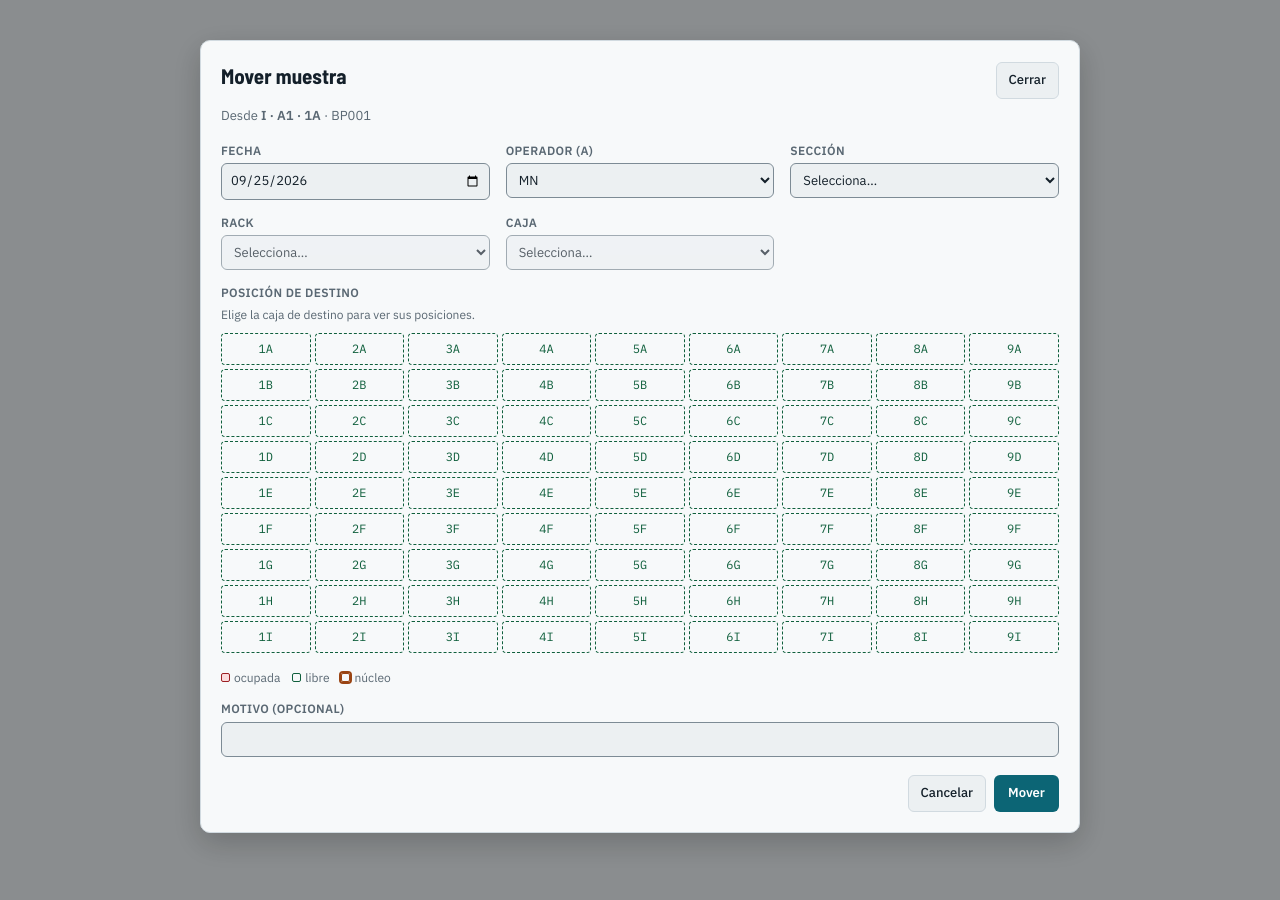
Test case: MoveModal › el destino se elige de listas con las cajas que tienen espacio
The width and height of the screenshot is (1280, 900).
Select "I" in the dropdown labelled "Sección" at [925, 181], box 790,163 -> 1059,198
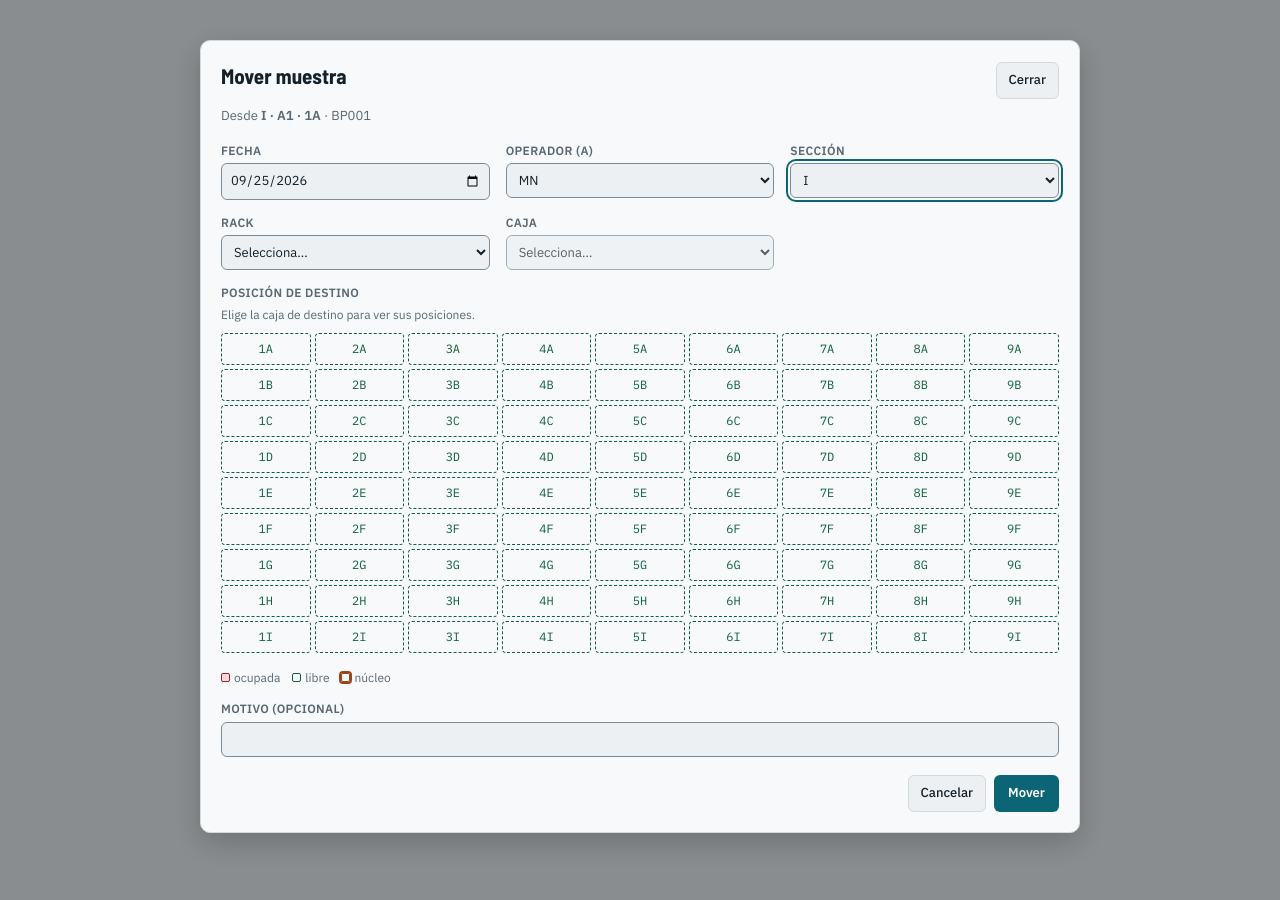
Select "A" in the dropdown labelled "Rack" at [355, 253], box 221,235 -> 490,270
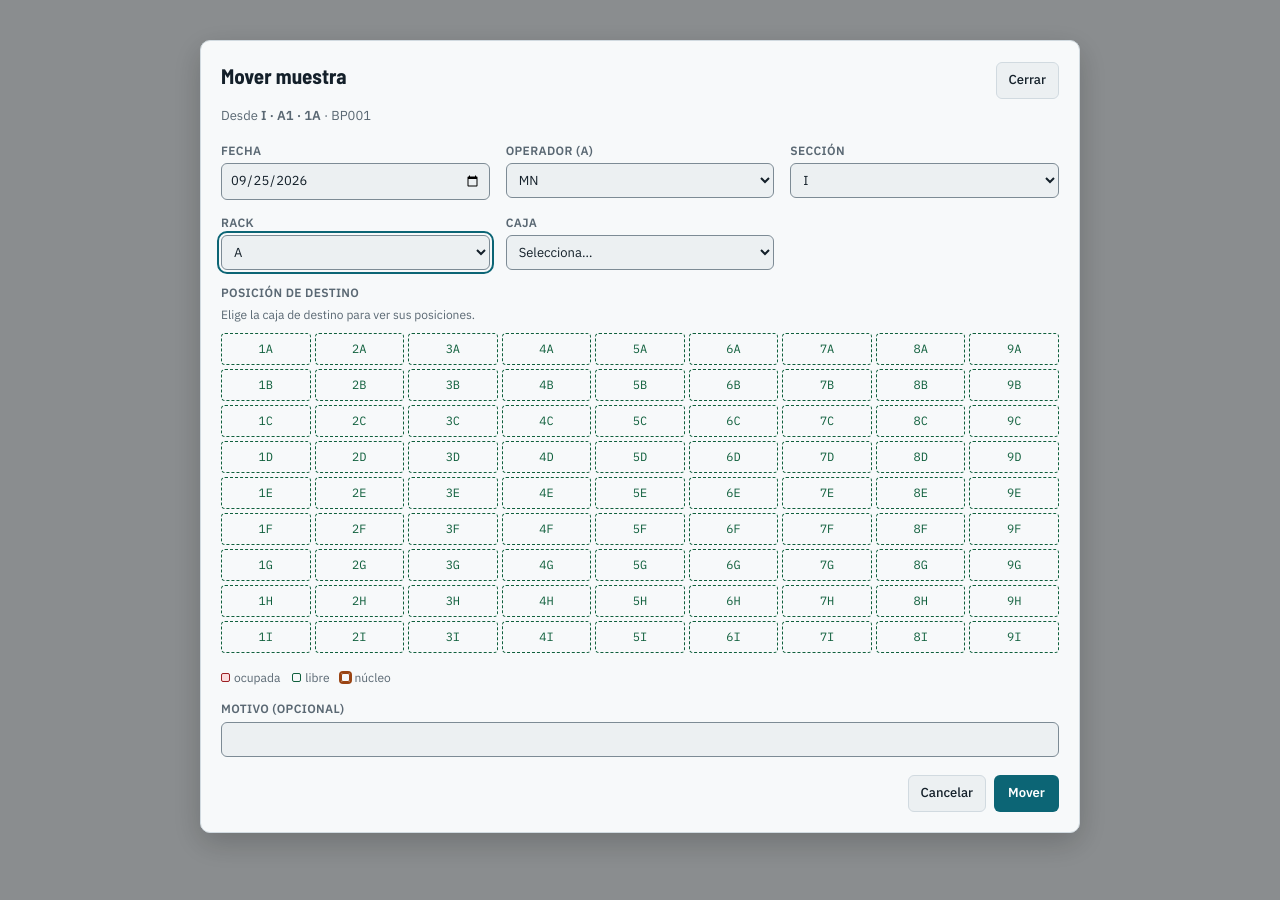
Select "A2 · 78 libres de 81" in the dropdown labelled "Caja" at [640, 253], box 506,235 -> 774,270
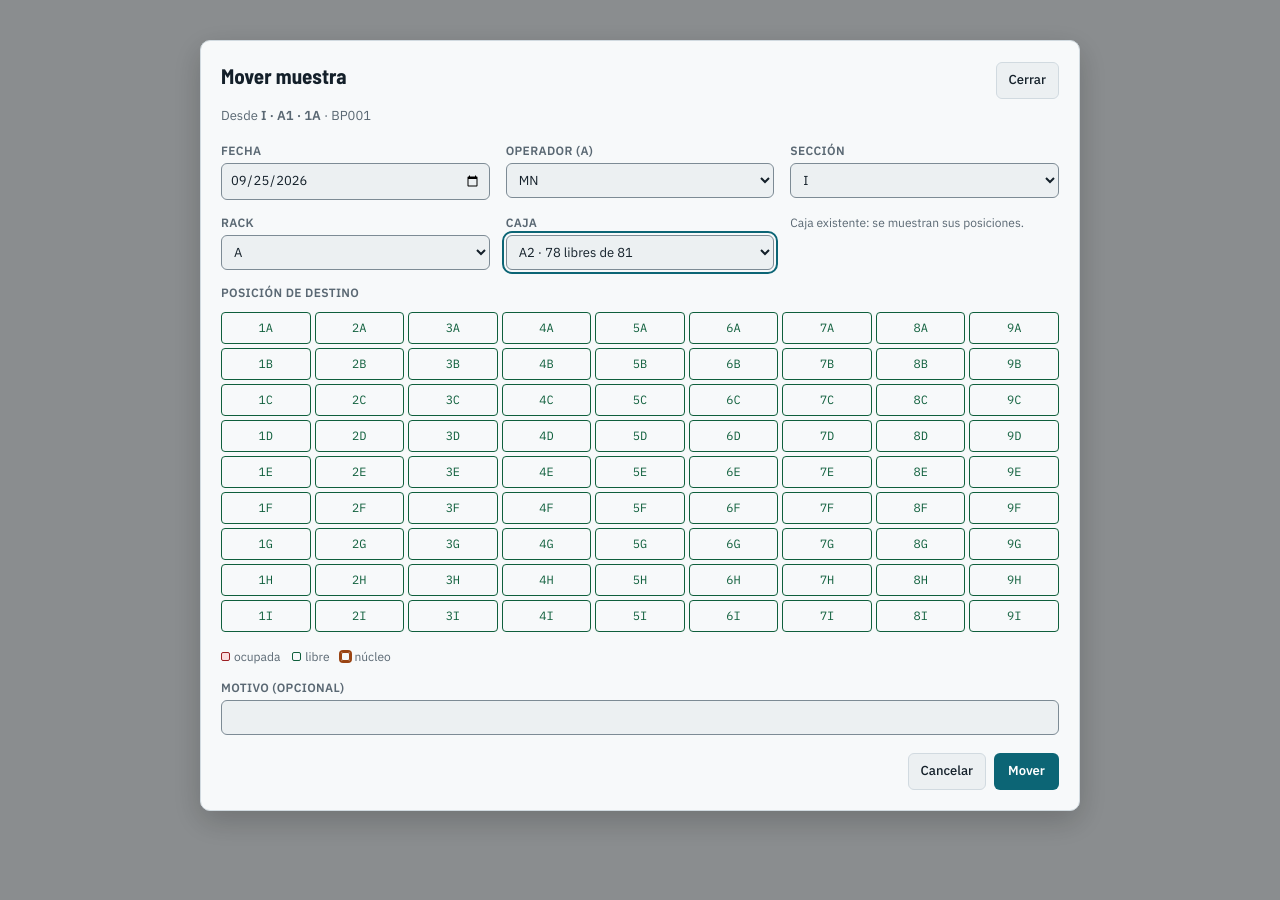
Expected: the text "Caja existente: se muestran sus posiciones." is shown, 790,214 -> 1059,231
